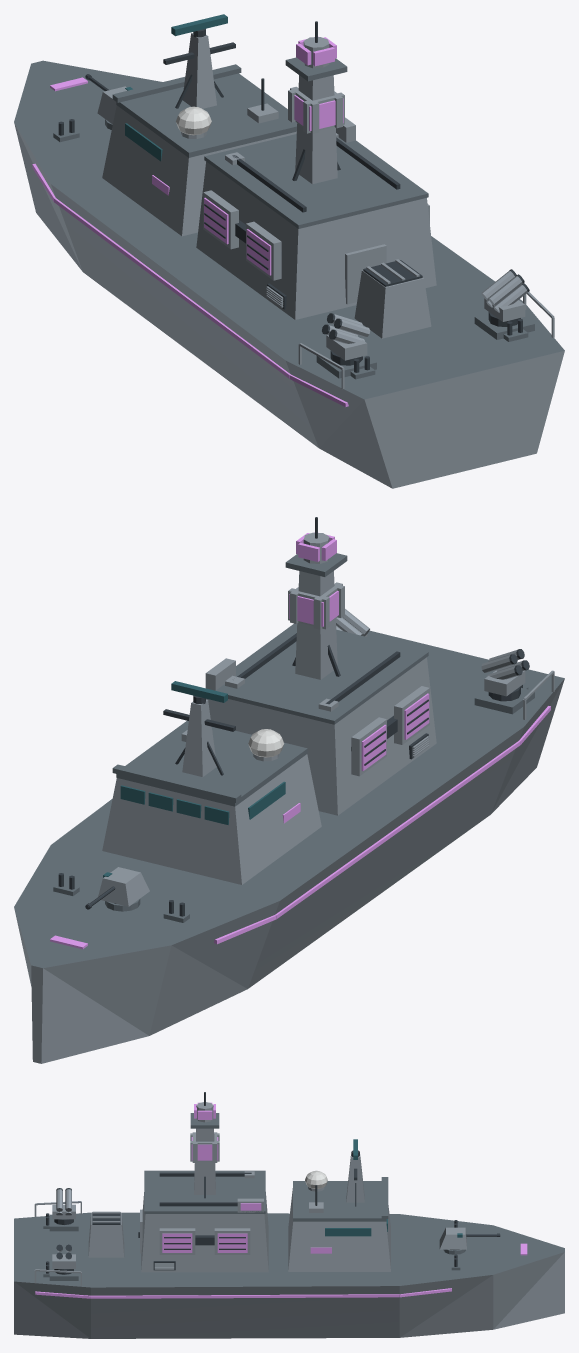
The model's file is ESC_EW_T3.fbx.
3 renders of one model, top to bottom at view 1: azimuth 30°, elevation 25°; view 2: azimuth 150°, elevation 25°; view 3: azimuth 270°, elevation 25°, orthographic. The views are drawn at different scales.
Visible parts, largest first — view 1: ContinuousHull.011, ElectronicWarfareEquipmentRoom.003, ElectronicsRoomRoof, Deckhouse.011, Roof.011, FunnelEnclosure.011, ESMMast.003, NavMast.007, RoleHullStripe-1_1, EWServiceHatch, BridgeBrow, JammerBackplate_P0 (+10 smaller); view 2: ContinuousHull.011, Deckhouse.011, ElectronicWarfareEquipmentRoom.003, ElectronicsRoomRoof, Roof.011, ESMMast.003, NavMast.007, RoleHullStripe-1_1, PrimaryGunCupola.011, BridgeBrow, JammerBackplate_P1, JammerBackplate_P0 (+5 smaller); view 3: ContinuousHull.011, ElectronicWarfareEquipmentRoom.003, Deckhouse.011, ElectronicsRoomRoof, Roof.011, FunnelEnclosure.011, RoleHullStripe1_1, ESMMast.003, NavMast.007, PrimaryGunCupola.011, JammerFace_S0, JammerFace_S1 (+8 smaller).
Boxes of the visible parts, x1,y1,x2,y2 form: ContinuousHull.011: (14, 60, 564, 488); ElectronicWarfareEquipmentRoom.003: (196, 161, 436, 319); ElectronicsRoomRoof: (204, 134, 428, 228); Deckhouse.011: (102, 105, 296, 236); Roof.011: (116, 73, 297, 157); FunnelEnclosure.011: (354, 270, 431, 338); ESMMast.003: (295, 75, 337, 184); NavMast.007: (182, 33, 216, 108); RoleHullStripe-1_1: (54, 198, 290, 378); EWServiceHatch: (345, 244, 386, 304); BridgeBrow: (112, 64, 241, 102); JammerBackplate_P0: (246, 221, 281, 280); ContinuousHull.011: (14, 630, 564, 1063); Deckhouse.011: (102, 754, 321, 884); ElectronicWarfareEquipmentRoom.003: (206, 657, 436, 815); ElectronicsRoomRoof: (216, 623, 428, 724); Roof.011: (116, 720, 307, 806); ESMMast.003: (295, 571, 337, 679); NavMast.007: (182, 699, 216, 776); RoleHullStripe-1_1: (275, 741, 520, 919); PrimaryGunCupola.011: (98, 867, 149, 906); BridgeBrow: (112, 764, 241, 802); JammerBackplate_P1: (351, 717, 386, 776); JammerBackplate_P0: (394, 686, 429, 744); ContinuousHull.011: (14, 1212, 564, 1338); ElectronicWarfareEquipmentRoom.003: (141, 1192, 268, 1272); Deckhouse.011: (288, 1188, 390, 1271); ElectronicsRoomRoof: (144, 1170, 265, 1213); Roof.011: (293, 1181, 386, 1221); FunnelEnclosure.011: (88, 1213, 124, 1257); RoleHullStripe1_1: (91, 1294, 399, 1298); ESMMast.003: (194, 1128, 215, 1194); NavMast.007: (346, 1154, 364, 1202); PrimaryGunCupola.011: (439, 1227, 466, 1249); JammerFace_S0: (162, 1233, 192, 1252); JammerFace_S1: (217, 1233, 247, 1252).
Bounding box in the file's own units: 290 × 396 × 900.
